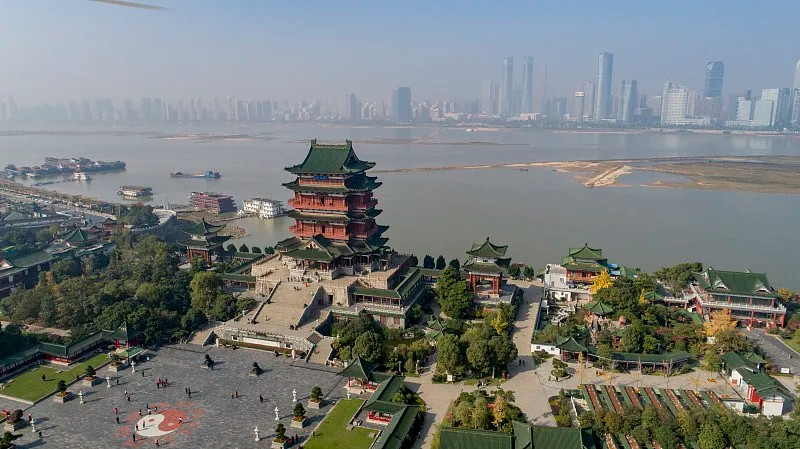Teng: (274, 139, 393, 272)
